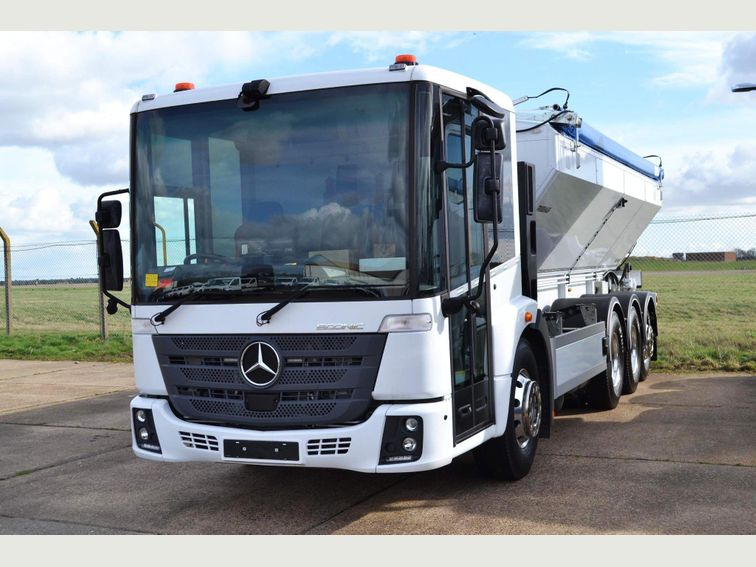Semi: (88, 53, 664, 480)
